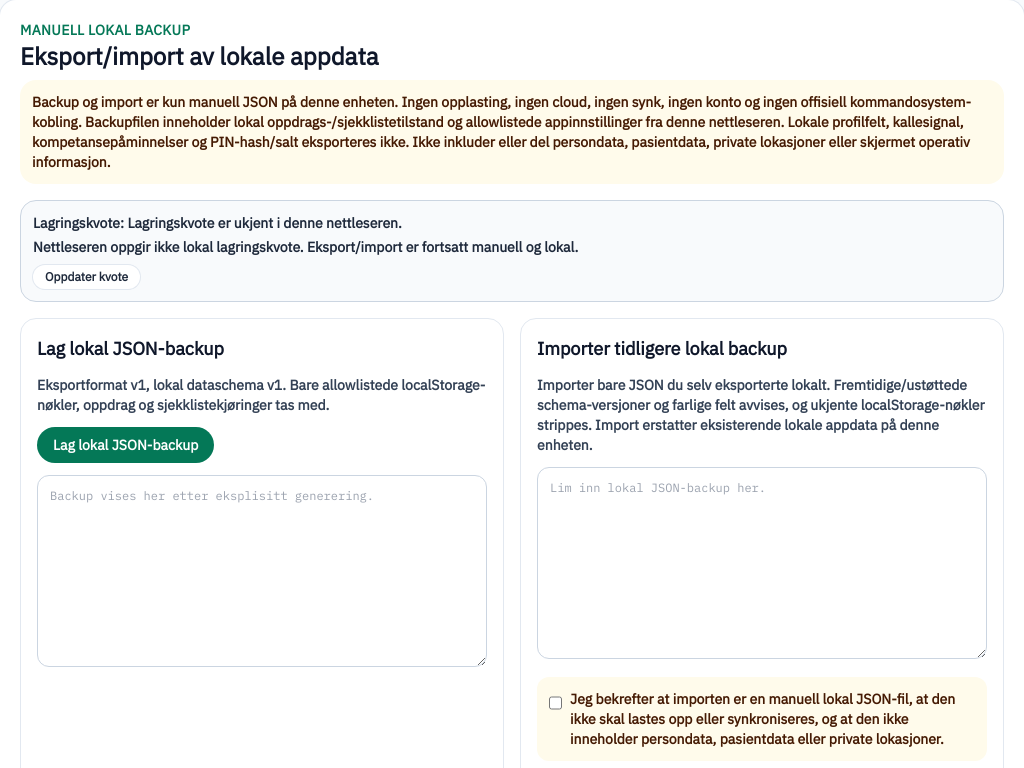
shows quota fallback and generates an explicit local-only JSON backup
The width and height of the screenshot is (1024, 768).
Expected: the element with test id "local-data-quota" shows "Lagringskvote er ukjent", [127,214,402,232]
Expected: the text "Lokale profilfelt, kallesignal, kompetansepåminnelser og PIN-hash/salt eksporteres ikke" is shown, [32,93,971,171]
Click the button "Lag lokal JSON-backup" at [126, 445], box [37,427,214,463]
(page scrolled)
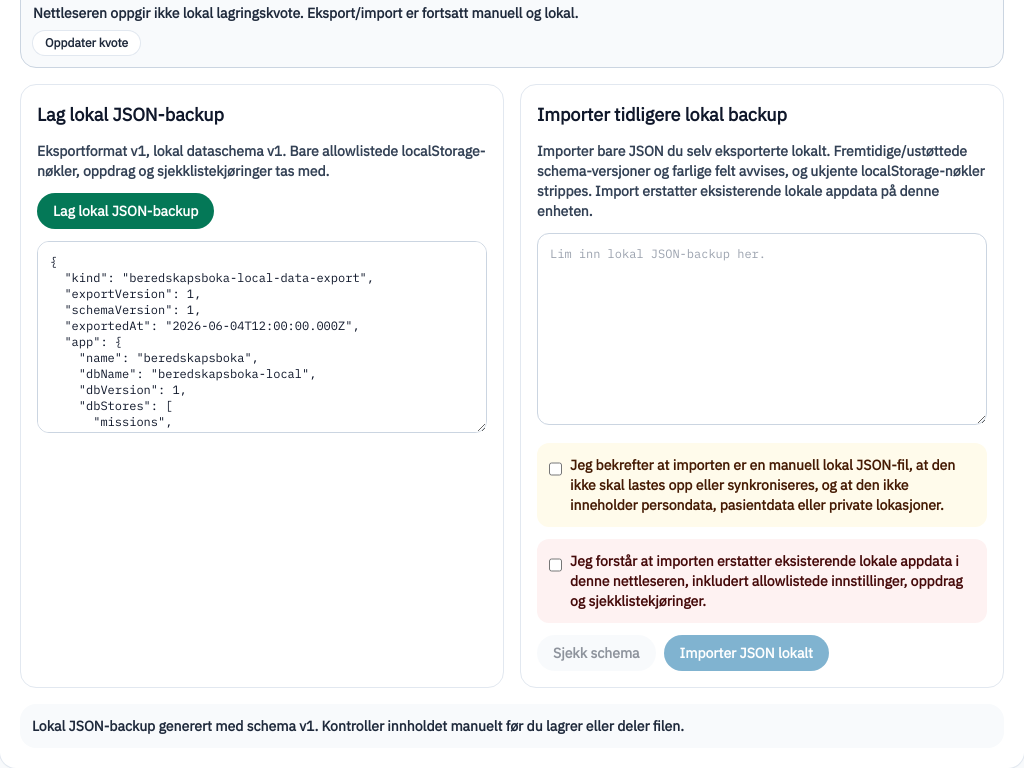
Expected: the text with test id "local-data-backup-message" shows "schema v1", [32,717,684,735]
